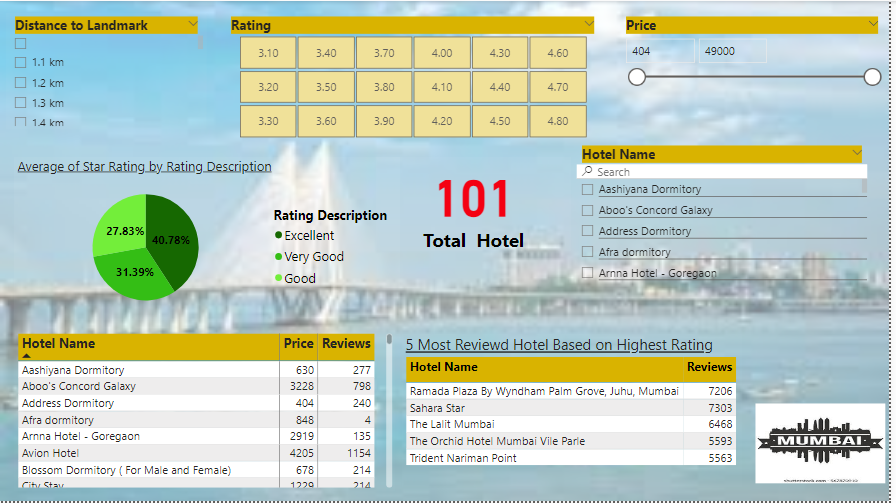

What the dashboard file says about the page in this screenshot:
{"tool":"powerbi","page":{"name":"Mumbai","canvas":[1280,720],"ordinal":6},"visuals":[{"type":"slicer","fields":{"Values":["mumbai.Price"]},"box":[888.5,17.3,388.8,169.9],"z":0},{"type":"card","fields":{"Values":["CountNonNull(mumbai.Hotel Name)"]},"box":[541.4,224.6,280.8,135.4],"z":1000},{"type":"slicer","fields":{"Values":["mumbai.Rating"]},"box":[319.7,17.3,548.6,185.8],"z":2000},{"type":"slicer","fields":{"Values":["mumbai.Distance to Landmark"]},"box":[8.6,17.3,289.4,168.5],"z":3000},{"type":"slicer","fields":{"Values":["mumbai.Hotel Name"]},"box":[825.1,203,429.1,213.1],"z":4000},{"type":"pieChart","fields":{"Category":["mumbai.Rating Description"],"Y":["Avg(mumbai.Star Rating)"]},"box":[20.2,224.6,555.8,234.7],"z":5000},{"type":"tableEx","fields":{"Values":["mumbai.Hotel Name","mumbai.Price","mumbai.Reviews"]},"box":[20.2,473.8,550.1,231.8],"z":6000},{"type":"tableEx","title":"5 Most Reviewd Hotel Based on Highest Rating","fields":{"Values":["mumbai.Hotel Name","mumbai.Reviews"]},"box":[578.9,479.5,491,220.3],"z":7000},{"type":"image","box":[1082.9,574.6,197.3,125.3],"z":8000}]}

Visuals, with their boxes in screenshot pixels (x1, y1, x2, y2), scaled from the page's 1280x720 canvas onto the 896x503 screenshot:
slicer - mumbai.Price: 622:12:894:131
card - CountNonNull(mumbai.Hotel Name): 379:157:576:252
slicer - mumbai.Rating: 224:12:608:142
slicer - mumbai.Distance to Landmark: 6:12:209:130
slicer - mumbai.Hotel Name: 578:142:878:291
pieChart - mumbai.Rating Description x Avg(mumbai.Star Rating): 14:157:403:321
tableEx - mumbai.Hotel Name x mumbai.Price: 14:331:399:493
"5 Most Reviewd Hotel Based on Highest Rating" tableEx: 405:335:749:489
image: 758:401:895:489
